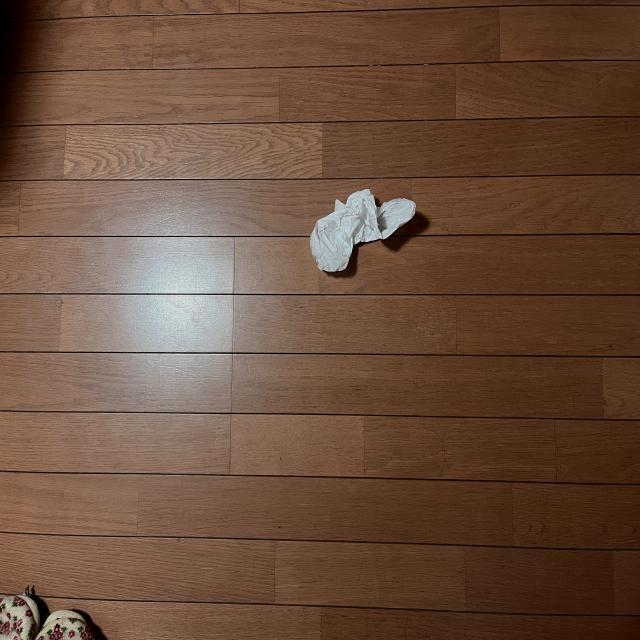Paper: (299, 182, 419, 280)
